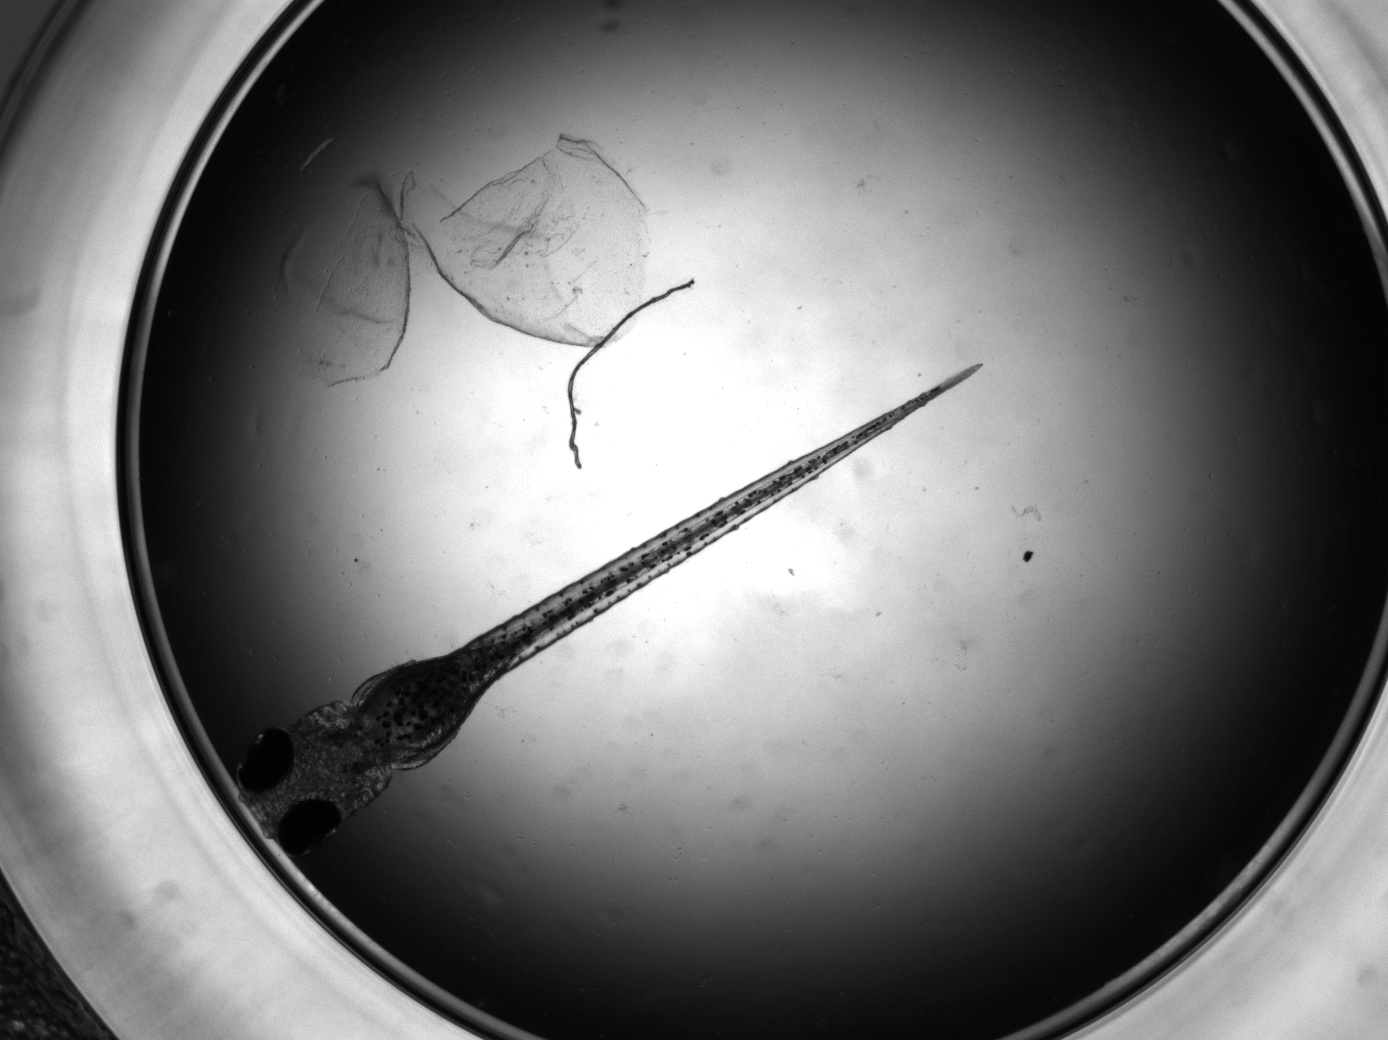debris: (396, 135, 660, 348), (280, 176, 411, 385), (568, 279, 697, 466)
embryo: (235, 359, 987, 859)
eye: (278, 797, 342, 858), (236, 726, 294, 792)
yolksac: (349, 645, 518, 770)
